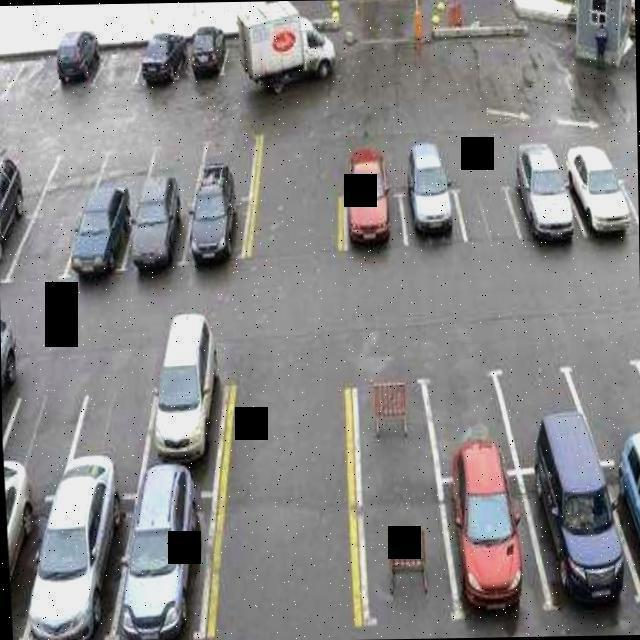space-empty: (496, 352, 598, 470), (61, 357, 151, 482), (1, 364, 75, 493), (428, 363, 510, 477), (567, 357, 640, 468), (8, 207, 83, 287), (458, 185, 529, 260), (200, 129, 262, 191), (9, 36, 64, 105), (0, 134, 52, 204), (48, 139, 99, 210), (145, 135, 198, 200), (101, 134, 148, 205), (96, 32, 143, 99), (0, 36, 21, 115)
space-occupied: (107, 473, 224, 640), (534, 465, 634, 614), (32, 505, 139, 640), (444, 471, 530, 614), (361, 484, 448, 614), (146, 357, 232, 476), (354, 381, 433, 486), (71, 200, 138, 285), (131, 191, 198, 272), (341, 183, 403, 269), (513, 179, 576, 254), (576, 172, 637, 249), (398, 185, 459, 257), (192, 191, 249, 268), (56, 28, 108, 108), (179, 23, 232, 95), (619, 452, 640, 612), (139, 28, 185, 95), (0, 189, 31, 287)
